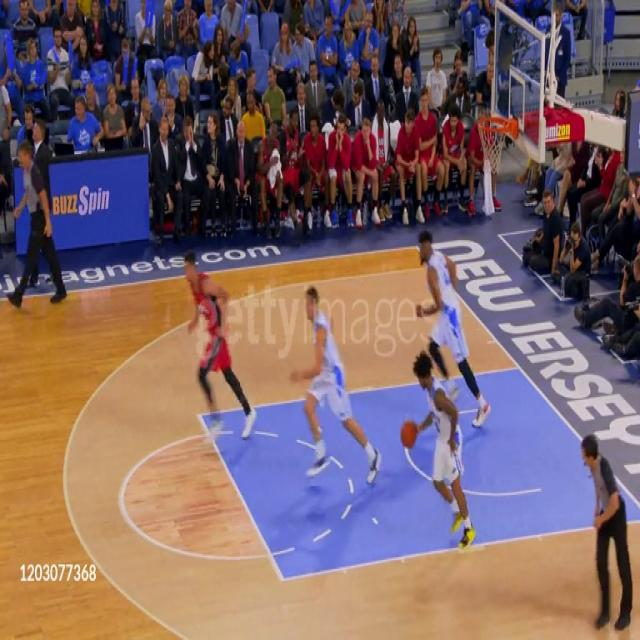ball: (400, 419, 418, 449)
